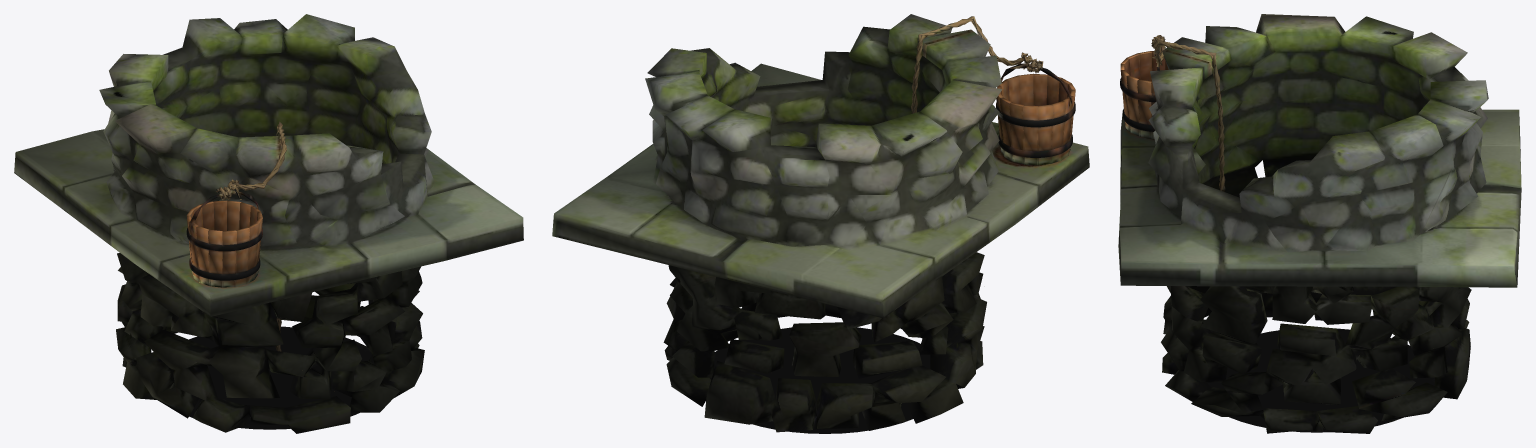
Rendered from well_broken.glb.
The picture shows the model from 3 angles, left to right: view 1: azimuth 30°, elevation 25°; view 2: azimuth 150°, elevation 25°; view 3: azimuth 270°, elevation 25°; orthographic projection. The views are drawn at different scales.
Parts seen in each view (by area): view 1: well_broken_lod0; view 2: well_broken_lod0; view 3: well_broken_lod0.
Boxes of the visible parts, left/top/right/bottom form: well_broken_lod0: left=14, top=14, right=523, bottom=433; well_broken_lod0: left=552, top=14, right=1089, bottom=433; well_broken_lod0: left=1118, top=14, right=1521, bottom=433.
Bounding box in the file's own units: 1.87 × 1.7 × 2.01.
Materials: 1 (1 with a texture image).
